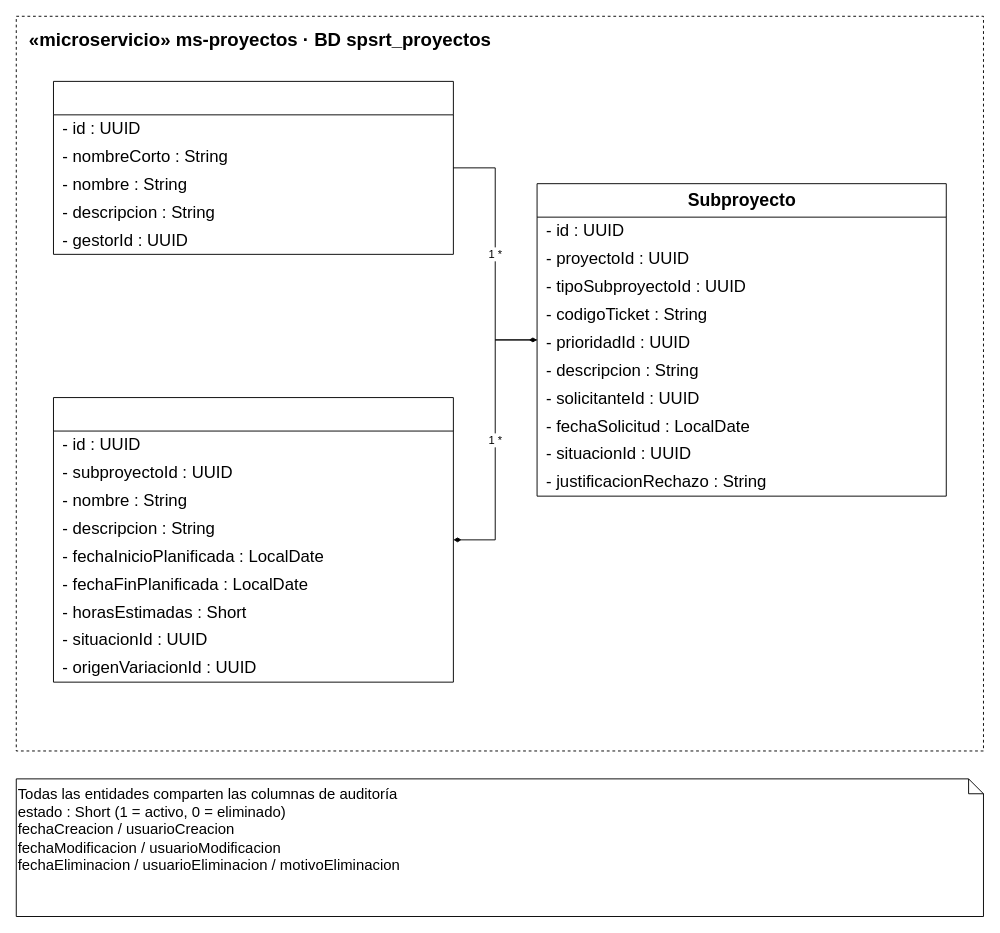
This 1000x933 diagram has some shape labels left out. Here are the shapes that lost their labels. From the top down, the box of each, then its label:
(53, 80, 453, 254): Proyecto
(53, 397, 453, 682): Tarea
